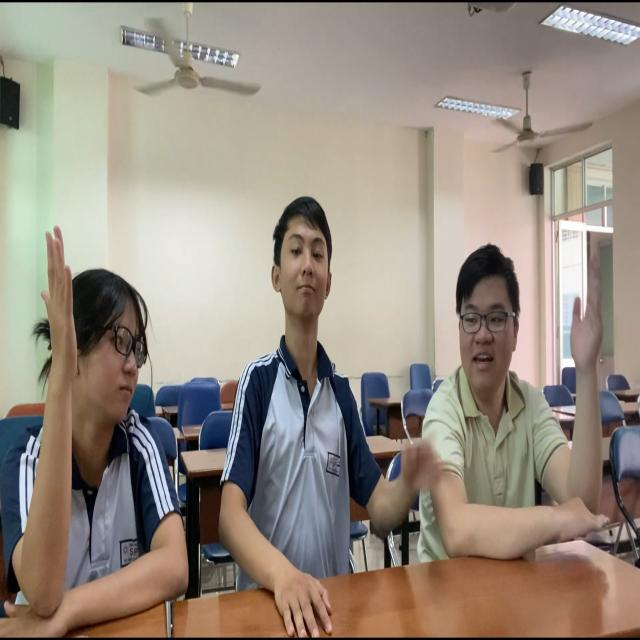raise_hand: (1, 228, 192, 640), (416, 220, 622, 563)
